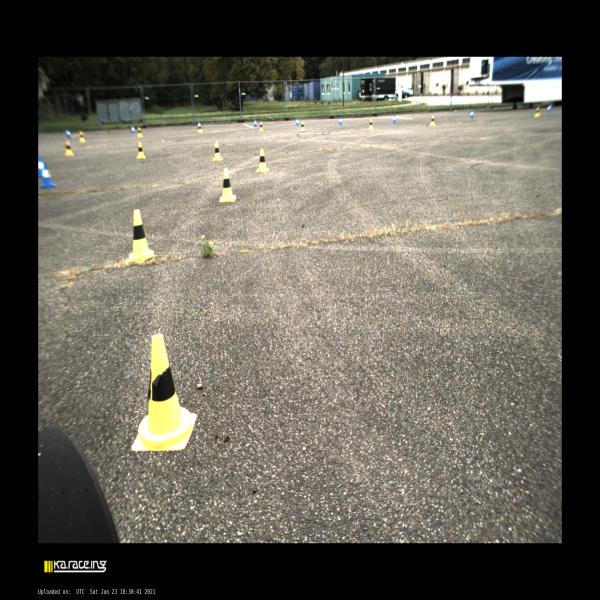blue_cone: (40, 163, 56, 188), (38, 155, 48, 178), (64, 130, 72, 140), (546, 103, 552, 113), (253, 119, 258, 127), (338, 116, 342, 126), (469, 110, 474, 118), (197, 121, 201, 130), (392, 114, 396, 123), (296, 118, 300, 126), (131, 126, 135, 133)
yellow_cone: (131, 334, 197, 450), (125, 209, 158, 263), (220, 168, 236, 202), (255, 148, 268, 172), (211, 141, 223, 161), (136, 142, 146, 158), (64, 140, 74, 156), (368, 118, 374, 130), (80, 131, 86, 142), (300, 121, 306, 131), (534, 107, 540, 117), (430, 115, 435, 126), (259, 122, 264, 132), (138, 127, 142, 137), (198, 124, 203, 132)
